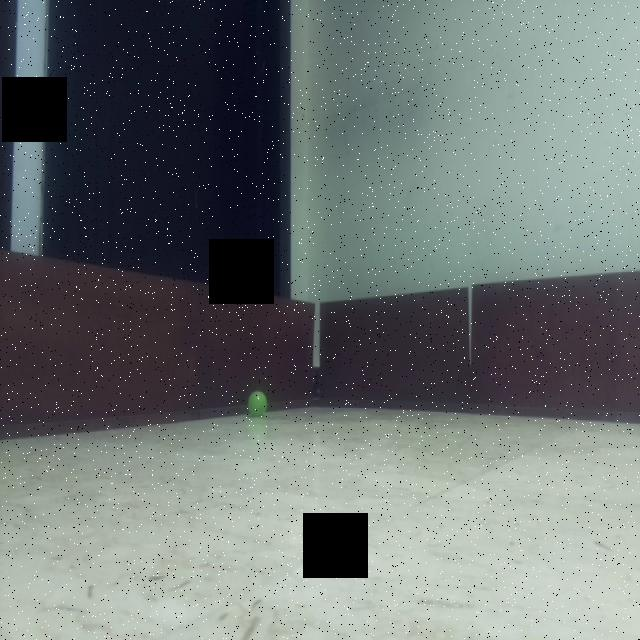ball: (245, 388, 271, 418)
